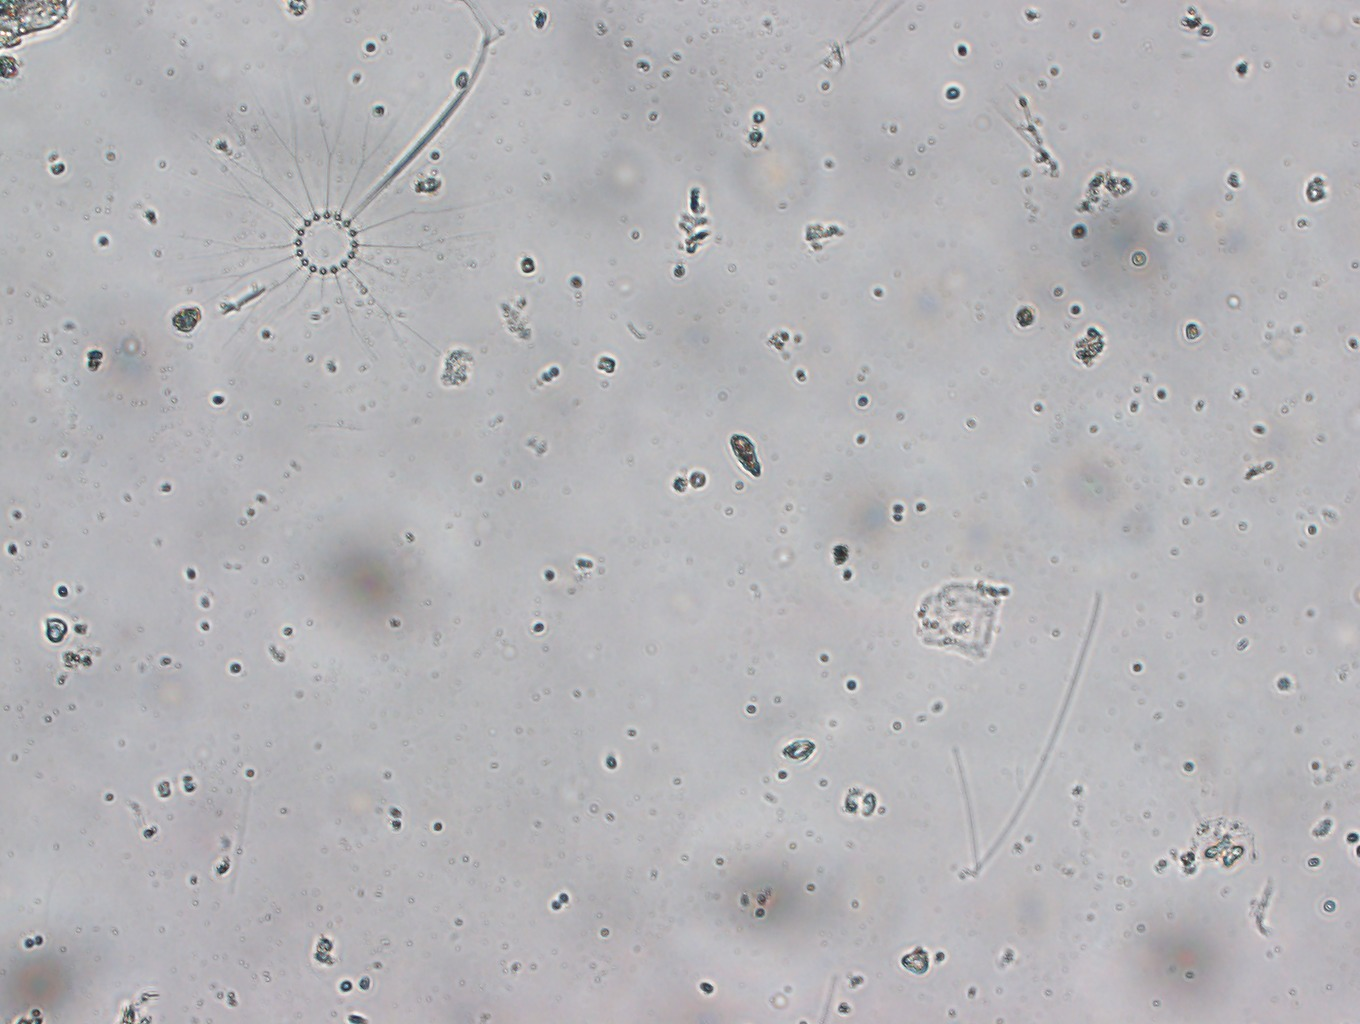bacteriastrum: (204, 132, 464, 351)
